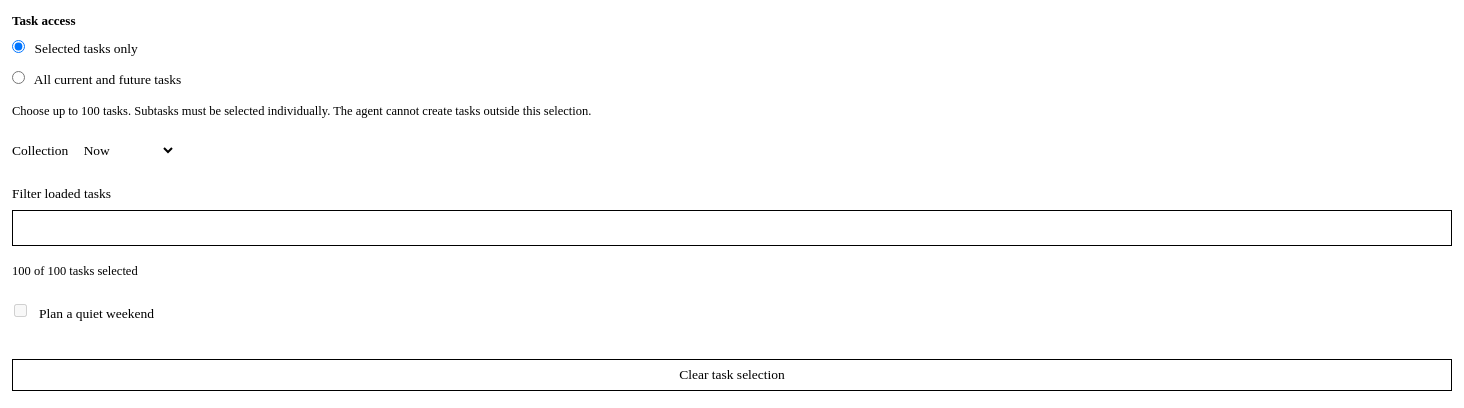
Test: bounded, deliberate task selection › caps selection at 100 and still allows clearing it
Check: the checkbox labelled "Plan a quiet weekend" is disabled, box [14,304,27,317]
Click the button "Clear task selection": (732,375) [12,359,1452,391]
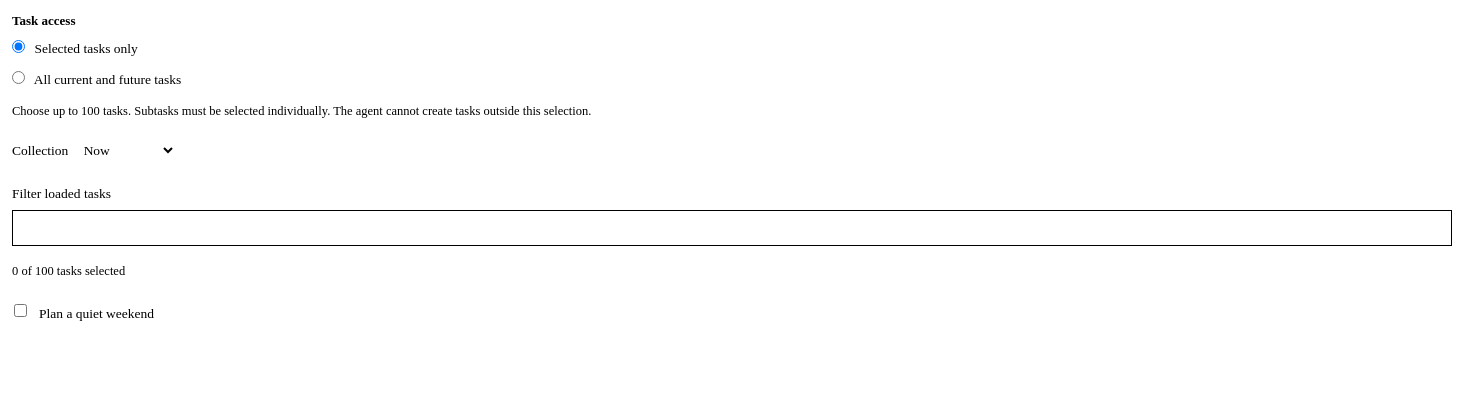
Check: the text "0 of 100 tasks selected" is shown, box [12,264,125,278]
Check: the checkbox labelled "Plan a quiet weekend" is enabled, box [14,304,27,317]
